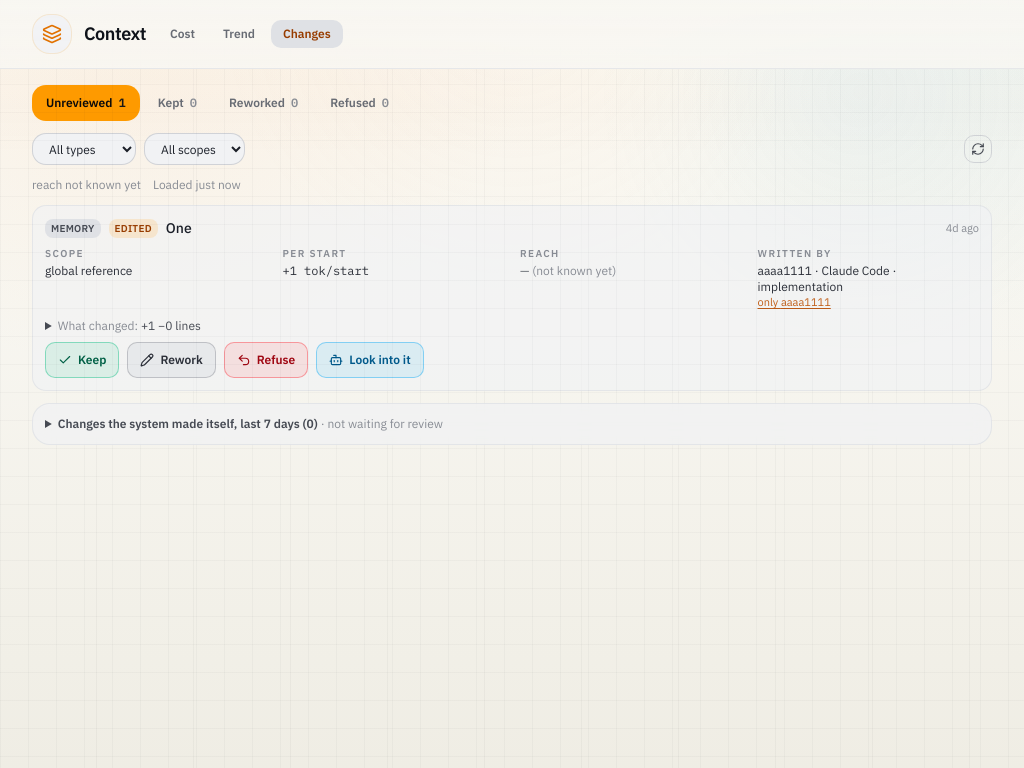
Changes page › on 409 says it changed, reloads, and keeps a row the server no longer lists in view
Click the button with aria-label "Keep One": (82, 360) [45,342,119,378]
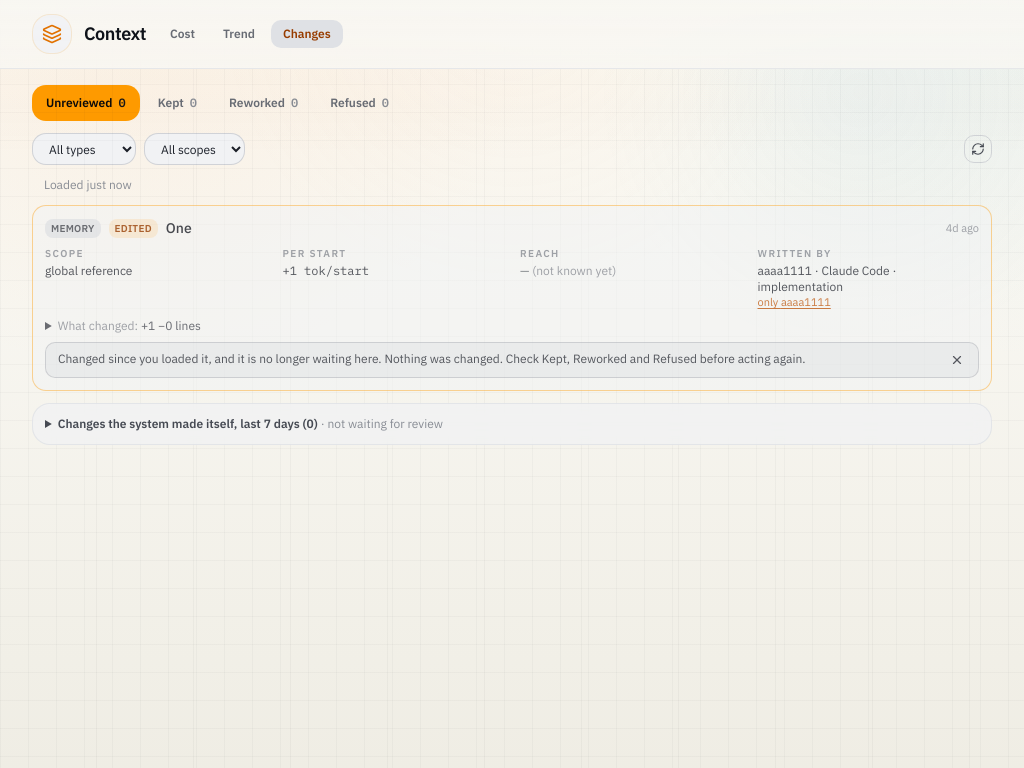
Check: the heading "One" is shown, box [166,219,192,237]
Check: the text "Changed since you loaded it, and it is no longer waiting here" is shown, box [58,351,806,366]
